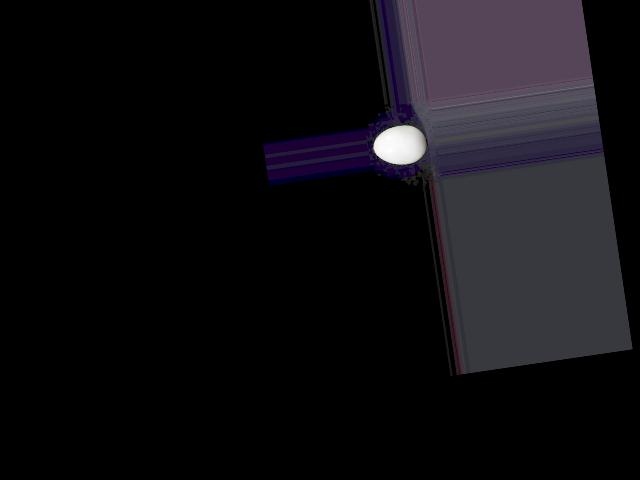egg: (371, 122, 429, 167)
